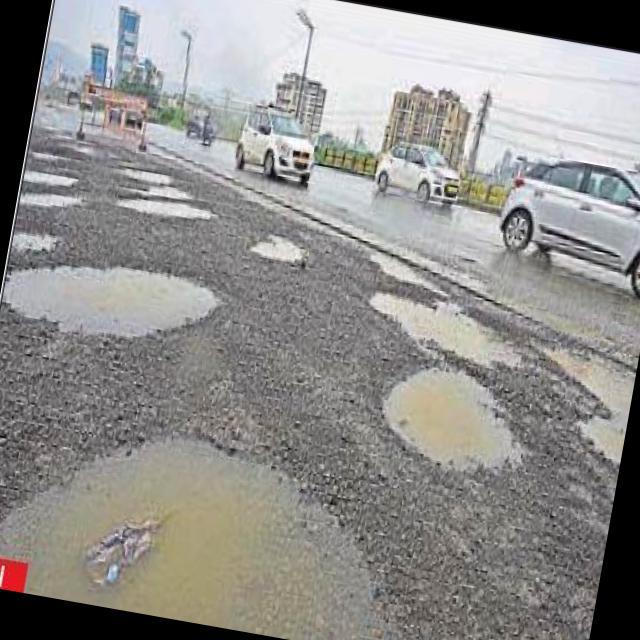Pothole: (0, 391, 426, 640), (0, 236, 226, 372), (370, 354, 546, 495), (358, 282, 538, 382), (527, 325, 640, 477), (110, 186, 222, 236), (240, 221, 316, 278), (119, 174, 205, 208), (12, 218, 60, 258), (117, 158, 179, 188), (20, 181, 80, 212), (25, 160, 81, 190), (33, 144, 65, 164), (72, 137, 98, 158)
